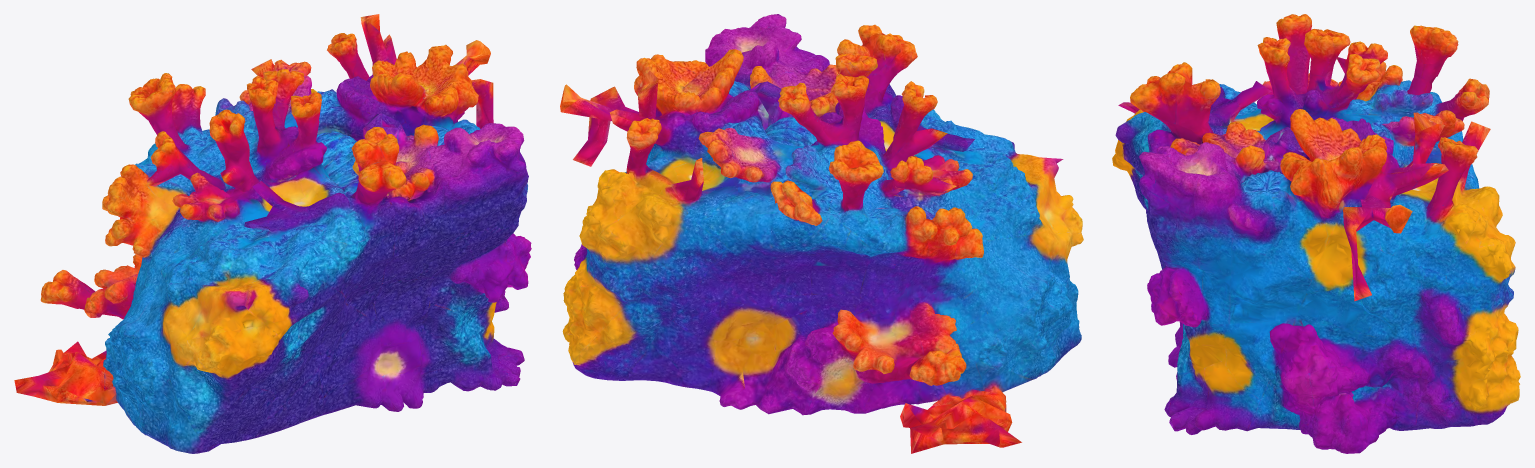
File: coral1.glb
The picture shows the model from 3 angles, left to right: view 1: azimuth 30°, elevation 25°; view 2: azimuth 150°, elevation 25°; view 3: azimuth 270°, elevation 25°; orthographic projection. The views are drawn at different scales.
Size of the model in its own units: 1.89 by 1.15 by 1.37.
1 material, 1 textured.
